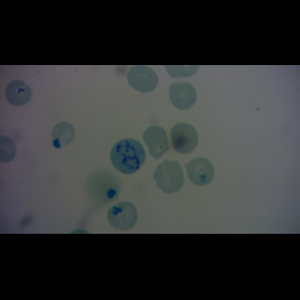aggregate reticulocyte: (109, 137, 147, 175)
erythrocyte: (152, 158, 186, 194), (142, 124, 171, 160), (106, 200, 139, 231), (169, 122, 200, 155), (127, 65, 160, 94), (185, 156, 215, 187), (4, 79, 33, 107), (50, 121, 76, 150)
punctate reticulocyte: (168, 81, 198, 111)
